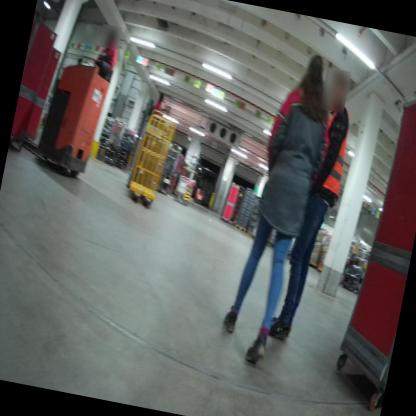pallet: (232, 222, 248, 234)
pallet_truck: (9, 38, 123, 184), (189, 159, 214, 209)
